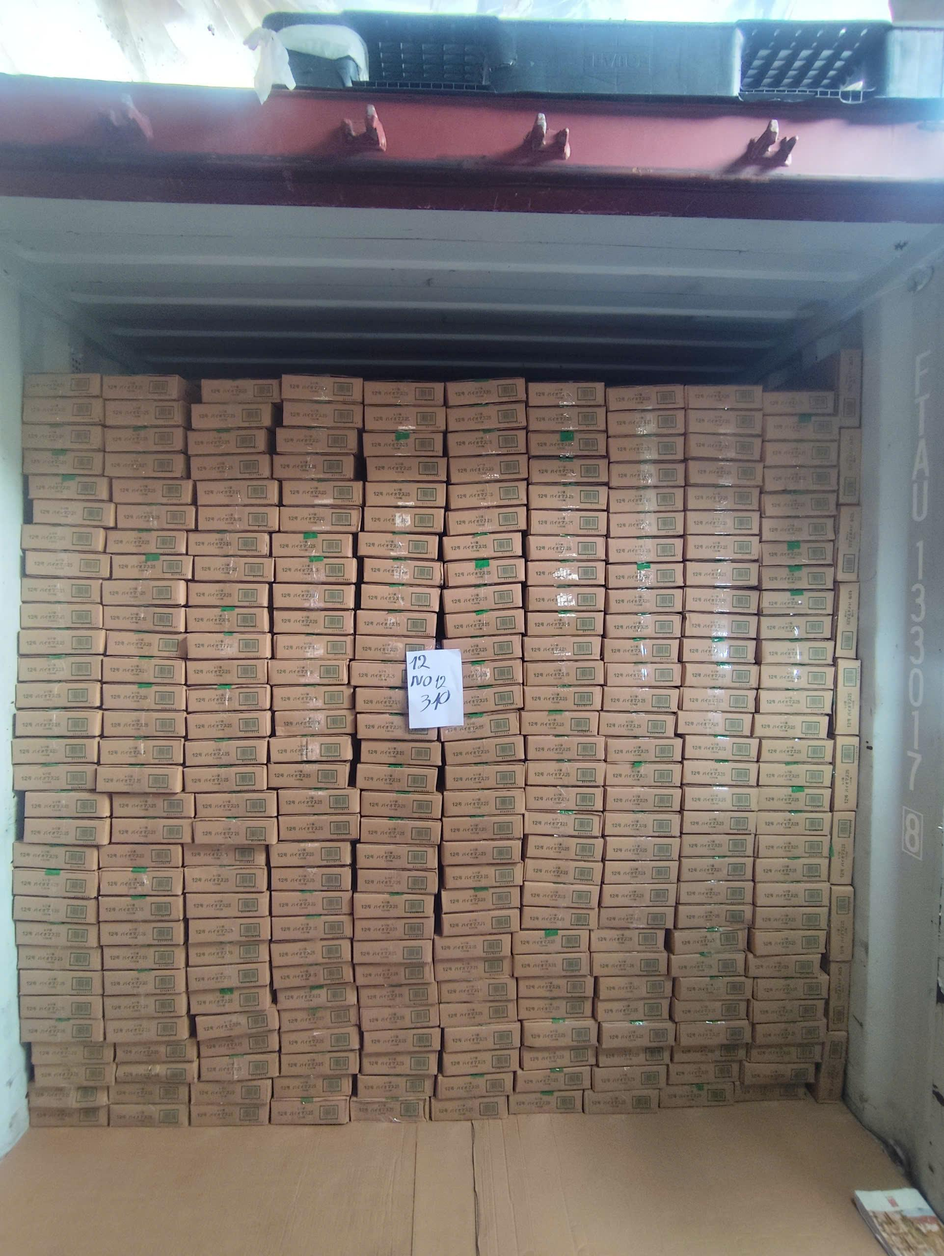carton: (442, 733, 529, 768), (22, 789, 113, 821), (10, 895, 98, 928), (194, 1005, 278, 1039), (192, 1028, 278, 1061), (14, 867, 100, 900), (21, 550, 112, 581), (12, 736, 100, 768), (184, 961, 272, 993), (442, 529, 524, 563), (187, 983, 274, 1015), (10, 762, 99, 793), (102, 681, 188, 713), (358, 583, 441, 616), (14, 709, 102, 740), (12, 919, 100, 950), (441, 608, 526, 640), (271, 960, 356, 992), (98, 737, 185, 768), (440, 402, 527, 433), (15, 628, 102, 659), (443, 505, 526, 537), (10, 841, 98, 871), (275, 1002, 360, 1033), (102, 990, 189, 1020), (268, 938, 355, 968), (182, 739, 269, 769), (14, 655, 101, 685), (20, 524, 104, 555), (98, 895, 184, 925), (15, 680, 101, 710), (356, 531, 442, 561), (31, 498, 117, 528), (441, 786, 527, 816), (271, 582, 354, 613), (20, 600, 103, 631), (438, 712, 521, 743), (95, 765, 183, 794), (20, 577, 105, 607), (440, 814, 525, 844), (355, 764, 437, 795), (20, 395, 102, 426), (446, 683, 523, 716), (182, 766, 269, 795), (274, 426, 361, 455), (102, 399, 189, 428), (100, 579, 187, 608), (104, 451, 191, 480), (445, 454, 529, 484), (355, 712, 439, 742), (110, 478, 194, 508), (16, 969, 106, 997), (752, 829, 830, 861), (102, 944, 188, 973), (268, 890, 354, 919), (280, 401, 366, 430), (356, 507, 442, 536), (268, 736, 354, 765), (438, 838, 524, 867), (359, 559, 442, 589), (22, 424, 105, 454), (276, 1051, 361, 1080), (101, 920, 186, 949), (184, 917, 269, 946), (273, 788, 358, 817), (101, 603, 186, 632), (183, 632, 271, 660), (358, 791, 440, 821), (433, 930, 515, 960), (97, 868, 181, 897), (17, 944, 101, 973), (187, 429, 271, 458), (190, 818, 277, 846), (101, 632, 185, 661), (280, 374, 364, 403), (442, 378, 526, 407), (24, 817, 111, 845), (184, 937, 271, 965), (582, 1086, 663, 1116), (442, 1021, 523, 1051), (182, 892, 268, 920), (271, 454, 357, 482), (183, 713, 269, 741), (355, 867, 441, 895), (272, 531, 355, 560), (186, 581, 269, 610), (443, 427, 526, 456), (269, 685, 352, 714), (264, 866, 353, 893), (753, 857, 833, 887), (831, 736, 861, 816), (445, 763, 525, 793), (104, 426, 189, 454), (105, 529, 190, 557), (440, 633, 525, 661), (752, 713, 834, 742), (274, 912, 356, 941), (357, 739, 445, 766), (445, 659, 524, 689), (349, 660, 433, 688), (748, 929, 829, 958), (355, 843, 436, 872), (269, 840, 356, 867), (528, 483, 609, 512), (23, 448, 104, 477), (439, 1046, 517, 1076), (357, 1002, 435, 1032), (437, 909, 520, 937), (188, 455, 271, 483), (365, 456, 448, 484), (272, 556, 355, 584), (187, 530, 270, 558), (271, 633, 354, 661), (445, 559, 528, 587), (441, 862, 524, 890), (188, 403, 274, 430), (190, 793, 276, 820), (100, 712, 186, 739), (101, 375, 187, 402), (196, 505, 282, 532), (754, 738, 834, 767), (528, 457, 608, 486), (103, 969, 192, 995), (427, 1094, 509, 1122), (673, 902, 755, 930), (595, 1020, 677, 1048), (269, 762, 351, 790), (739, 1059, 824, 1086), (103, 793, 188, 820), (108, 555, 193, 582), (268, 1097, 347, 1126), (352, 939, 431, 968), (201, 1052, 280, 1081), (356, 959, 435, 988), (520, 1019, 596, 1049), (27, 1102, 111, 1129), (24, 1040, 108, 1067), (277, 507, 358, 535), (271, 710, 355, 737), (185, 687, 269, 714), (100, 658, 184, 685), (353, 611, 434, 639), (181, 866, 265, 893), (25, 474, 109, 501), (273, 607, 357, 634), (834, 504, 863, 582), (362, 431, 449, 457), (361, 380, 444, 407), (194, 481, 277, 508), (266, 659, 349, 686), (751, 882, 831, 910), (193, 1078, 273, 1106), (184, 607, 270, 633), (432, 1071, 509, 1100), (762, 441, 839, 470), (437, 953, 514, 982), (603, 833, 680, 862), (352, 893, 434, 920), (364, 483, 446, 510), (756, 665, 835, 693), (439, 976, 518, 1004), (606, 435, 685, 463), (18, 994, 103, 1020), (277, 481, 362, 507), (439, 885, 524, 911), (116, 502, 197, 529), (525, 560, 606, 587), (762, 414, 840, 442), (512, 928, 590, 956), (761, 492, 839, 520), (832, 580, 860, 658), (528, 430, 606, 458), (18, 1018, 105, 1043), (817, 1033, 848, 1103), (518, 906, 598, 933), (191, 556, 271, 583), (756, 787, 836, 814), (357, 819, 437, 846), (605, 385, 685, 412), (829, 813, 859, 885), (280, 1025, 360, 1052), (101, 843, 184, 869), (352, 637, 435, 663), (759, 541, 836, 569), (762, 466, 839, 494), (827, 887, 855, 964), (31, 1062, 117, 1087), (752, 975, 831, 1002), (589, 1064, 668, 1091), (668, 927, 747, 954), (515, 951, 594, 978), (445, 584, 524, 611), (523, 735, 605, 761), (521, 786, 603, 812), (751, 1019, 827, 1047), (683, 759, 759, 787), (686, 432, 762, 460), (358, 1027, 443, 1052), (184, 659, 269, 684), (179, 842, 267, 866), (355, 1073, 433, 1100), (836, 427, 863, 505), (22, 372, 103, 398), (607, 409, 685, 436), (524, 586, 605, 612), (521, 686, 602, 712), (522, 811, 603, 837), (518, 1044, 593, 1072), (107, 1080, 191, 1105), (198, 379, 282, 404), (27, 1082, 111, 1107), (104, 1016, 191, 1040), (752, 810, 832, 836), (836, 348, 862, 428), (519, 710, 599, 736), (510, 1067, 587, 1094), (608, 462, 685, 489), (607, 537, 684, 564), (605, 762, 682, 789), (672, 976, 755, 1001), (110, 818, 193, 843), (276, 983, 359, 1008), (115, 1060, 201, 1084), (276, 816, 362, 840), (758, 517, 837, 543), (525, 382, 604, 408), (608, 487, 684, 514), (596, 713, 678, 738), (523, 761, 605, 786), (356, 982, 441, 1006), (668, 952, 746, 978), (517, 995, 595, 1021), (607, 512, 685, 538), (605, 588, 683, 614), (600, 881, 675, 908), (526, 510, 607, 535), (685, 535, 760, 562), (112, 1038, 200, 1061), (759, 565, 836, 591), (189, 1101, 266, 1127), (834, 658, 860, 735), (527, 407, 604, 433), (607, 563, 684, 589), (675, 710, 752, 736), (677, 855, 754, 881), (361, 406, 441, 431), (525, 536, 605, 561), (678, 687, 758, 712), (596, 975, 670, 1002), (349, 1097, 423, 1124), (354, 688, 437, 712), (517, 884, 603, 907), (684, 561, 760, 587), (683, 587, 759, 613), (603, 738, 682, 763), (667, 1081, 740, 1108), (108, 1103, 190, 1127), (520, 859, 602, 883), (757, 390, 832, 416), (758, 688, 836, 713), (600, 688, 678, 713), (604, 787, 682, 812), (524, 661, 605, 685), (520, 838, 604, 861), (675, 1021, 752, 1046), (683, 384, 760, 409), (603, 812, 680, 837), (734, 1079, 814, 1103), (590, 952, 670, 976), (355, 916, 435, 940), (525, 612, 605, 636), (665, 1059, 741, 1084), (687, 409, 763, 434), (759, 590, 835, 615), (683, 613, 759, 638), (685, 735, 758, 761), (359, 1051, 438, 1075), (596, 906, 671, 931), (588, 929, 666, 953), (595, 998, 667, 1024), (605, 663, 683, 687), (438, 1001, 519, 1024), (448, 483, 529, 506), (507, 1089, 584, 1113), (514, 976, 598, 998), (670, 998, 747, 1022), (745, 954, 822, 978), (686, 461, 763, 485), (758, 639, 835, 663), (681, 639, 758, 663), (270, 1076, 353, 1098), (753, 906, 826, 931), (685, 511, 761, 535), (523, 637, 602, 660), (685, 486, 760, 510), (603, 638, 678, 662), (680, 787, 755, 811), (679, 833, 754, 857), (604, 615, 682, 638), (756, 764, 833, 787), (682, 664, 758, 687), (826, 960, 850, 1032), (670, 1042, 750, 1063), (604, 861, 678, 883), (749, 1000, 826, 1021), (747, 1042, 823, 1063), (759, 616, 831, 638), (682, 812, 756, 833), (597, 1045, 672, 1065), (677, 882, 751, 902)
